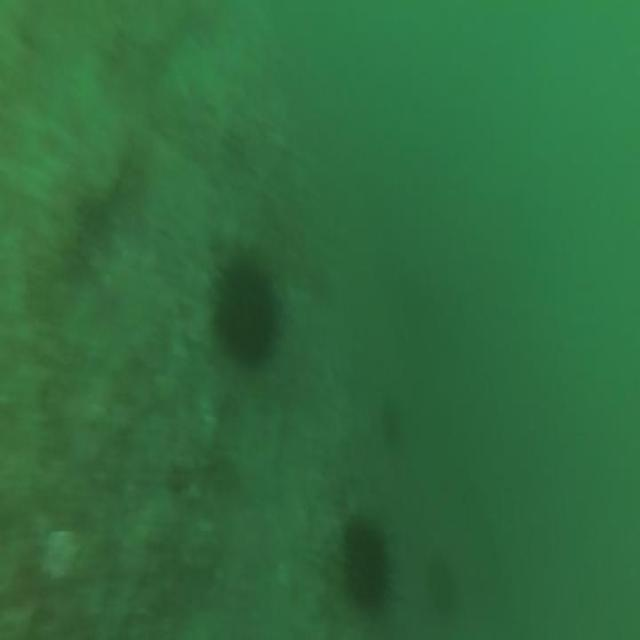echinus: (216, 264, 277, 365), (342, 520, 393, 613)
